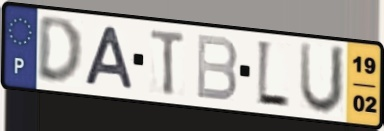A: (81, 24, 137, 92)
B: (194, 32, 240, 104)
D: (35, 16, 86, 88)
L: (255, 37, 292, 112)
T: (149, 27, 188, 98)
U: (297, 39, 348, 117)
